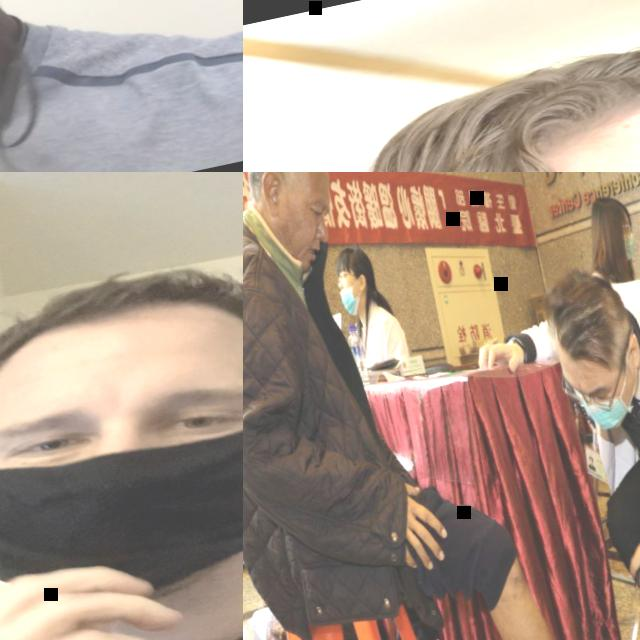Mask: (0, 406, 243, 623), (578, 394, 629, 432), (336, 284, 361, 318), (619, 232, 639, 259)
NO-Hardhat: (348, 13, 640, 172), (0, 245, 243, 413), (539, 262, 632, 376), (264, 172, 335, 202), (586, 191, 632, 232), (332, 242, 374, 276)
NO-Mask: (274, 205, 323, 274)
NO-Safety Vest: (243, 212, 390, 569), (0, 0, 243, 172), (589, 266, 640, 513), (347, 303, 400, 367)
Person: (243, 172, 630, 640), (0, 214, 243, 640), (462, 238, 640, 640), (243, 6, 640, 172), (0, 0, 243, 172), (319, 236, 411, 376), (574, 190, 640, 287)
